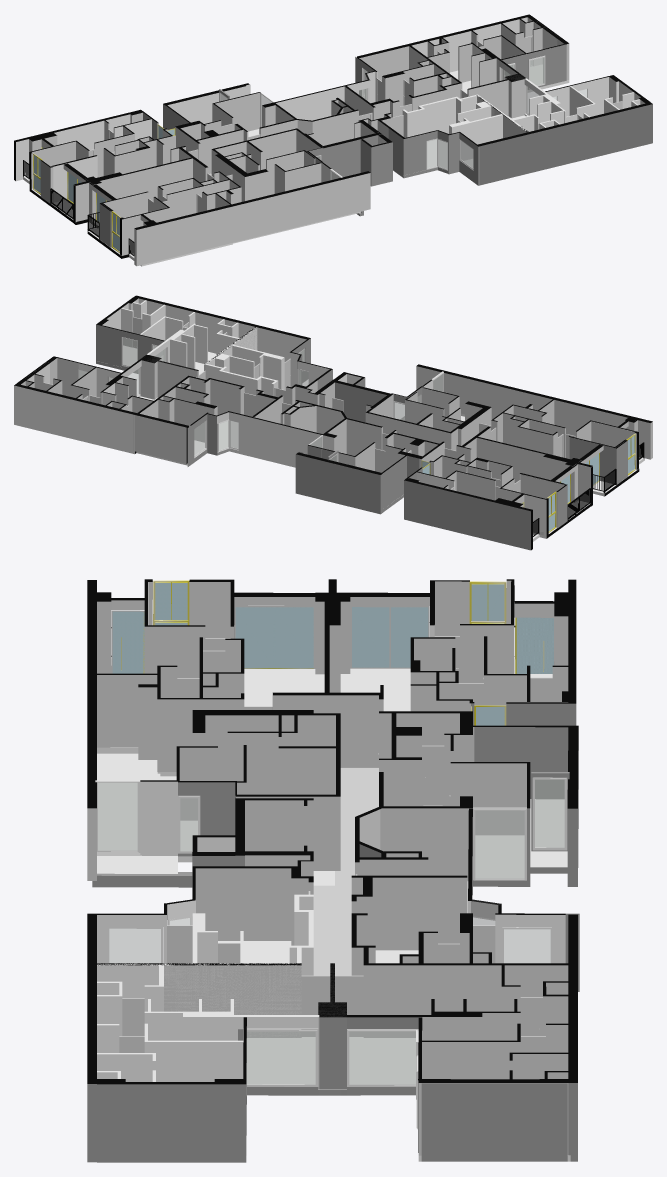
The model's file is PRUEBA 208 .glb.
The picture shows the model from 3 angles, top to bottom: view 1: azimuth 30°, elevation 25°; view 2: azimuth 150°, elevation 25°; view 3: azimuth 270°, elevation 25°; orthographic projection. The views are drawn at different scales.
Parts seen in each view (by area): view 1: G-Object.042, 0.002, G-Object.067, _G-Object.039 (Loose Mesh), _G-Object.068 (Loose Mesh), _G-Object.035 (Loose Mesh), G-Object.001, G-Object, G-Object.012; view 2: _G-Object.039 (Loose Mesh), _G-Object.035 (Loose Mesh), G-Object.042, G-Object.012, G-Object.001, 0.002, G-Object.067, _G-Object.068 (Loose Mesh), G-Object, _G-Object.037 (Loose Mesh); view 3: G-Object.067, _G-Object.035 (Loose Mesh), 0.002, _G-Object.039 (Loose Mesh), G-Object.042, G-Object.001, G-Object.012, _G-Object.068 (Loose Mesh), G-Object, G-Object.086.
Part boxes in pixels (box(x1,y1,x2,y2)): G-Object.042: box(73, 157, 241, 266); 0.002: box(211, 128, 370, 243); G-Object.067: box(467, 73, 652, 172); _G-Object.039 (Loose Mesh): box(14, 109, 200, 223); _G-Object.068 (Loose Mesh): box(377, 94, 530, 185); _G-Object.035 (Loose Mesh): box(408, 14, 569, 118); G-Object.001: box(163, 83, 297, 174); G-Object: box(210, 85, 392, 186); G-Object.012: box(344, 43, 462, 119); _G-Object.039 (Loose Mesh): box(404, 437, 592, 550); _G-Object.035 (Loose Mesh): box(14, 354, 197, 454); G-Object.042: box(474, 397, 652, 506); G-Object.012: box(133, 375, 283, 466); G-Object.001: box(295, 417, 444, 514); 0.002: box(365, 364, 554, 450); G-Object.067: box(96, 295, 258, 399); _G-Object.068 (Loose Mesh): box(204, 325, 332, 404); G-Object: box(252, 372, 390, 467); _G-Object.037 (Loose Mesh): box(578, 464, 591, 505); G-Object.067: box(87, 963, 346, 1162); _G-Object.035 (Loose Mesh): box(318, 963, 577, 1161); 0.002: box(87, 673, 340, 887); _G-Object.039 (Loose Mesh): box(328, 579, 576, 767); G-Object.042: box(87, 579, 350, 773); G-Object.001: box(379, 713, 578, 886); G-Object.012: box(351, 875, 579, 1037); _G-Object.068 (Loose Mesh): box(87, 866, 313, 1037); G-Object: box(192, 768, 472, 975); G-Object.086: box(109, 928, 160, 963).
Size of the model in its own units: 37.51 by 3.12 by 15.45.
14 materials, 2 textured.
